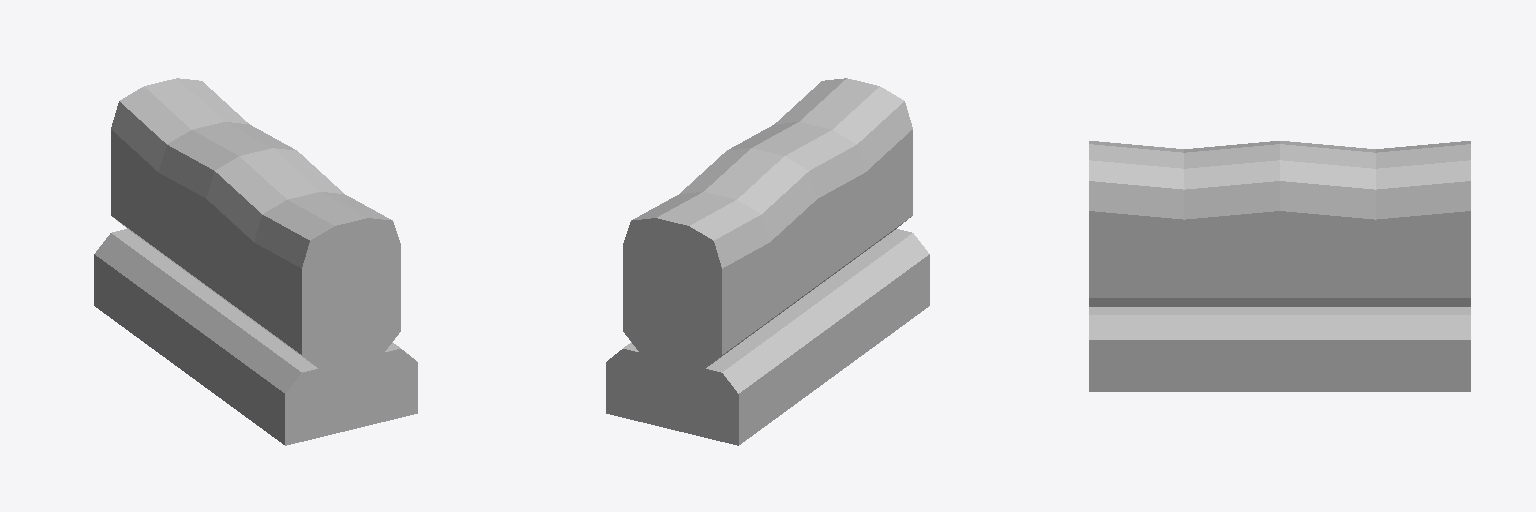
The model's file is hedge-large.obj.
3 views of the same model, side by side, from view 1: azimuth 30°, elevation 25°; view 2: azimuth 150°, elevation 25°; view 3: azimuth 270°, elevation 25° (orthographic).
Visible parts, largest first — view 1: hedge-large; view 2: hedge-large; view 3: hedge-large.
Part boxes in pixels (x1,y1,x2,y2): hedge-large: (94,78,417,445); hedge-large: (606,78,929,445); hedge-large: (1089,141,1470,391).
Size of the model in its own units: 0.4 by 0.6 by 1.